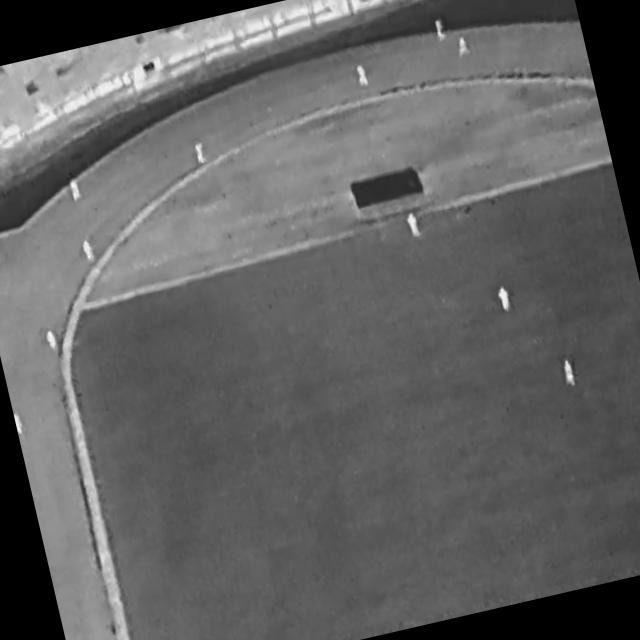person: (497, 285, 513, 314), (406, 212, 422, 240), (562, 358, 577, 387), (434, 19, 449, 43), (69, 179, 83, 203), (194, 142, 208, 166), (82, 239, 96, 263), (457, 36, 472, 58), (46, 330, 59, 352), (356, 65, 369, 87), (14, 413, 25, 435)
